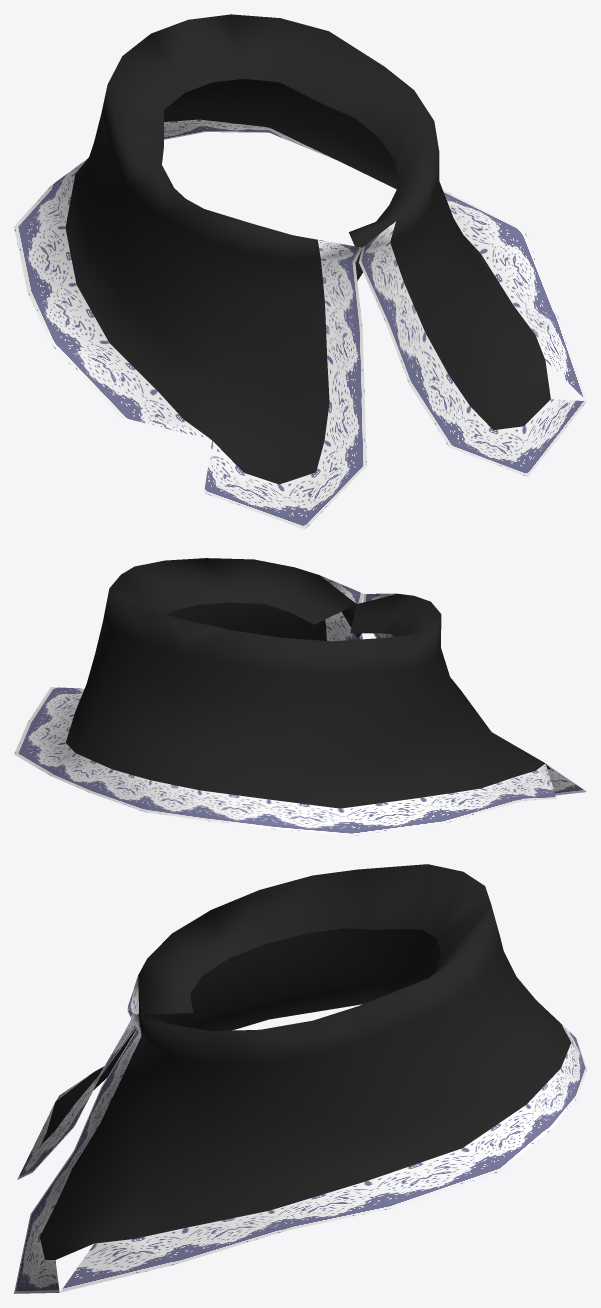
File: MaidCollar.fbx
The picture shows the model from 3 angles, top to bottom: view 1: azimuth 30°, elevation 25°; view 2: azimuth 150°, elevation 25°; view 3: azimuth 270°, elevation 25°; orthographic projection. The views are drawn at different scales.
Visible parts, largest first — view 1: MaidCollar_mesh; view 2: MaidCollar_mesh; view 3: MaidCollar_mesh.
Boxes of the visible parts, <box> form: MaidCollar_mesh: <box>14,14,586,529</box>; MaidCollar_mesh: <box>14,558,586,835</box>; MaidCollar_mesh: <box>14,864,586,1293</box>.
Bounding box in the file's own units: 13 × 8.33 × 13.02.
1 material, 1 textured.
